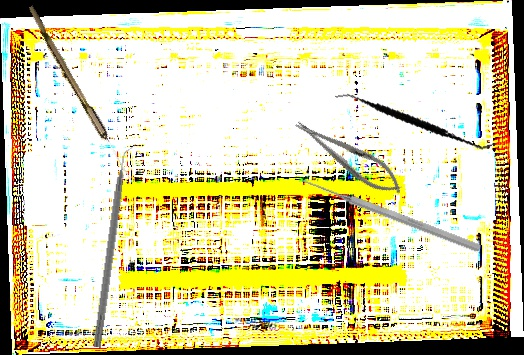Chopper: (92, 141, 141, 350)
Needle Holder: (289, 110, 409, 203)
Pusher: (298, 173, 482, 255)
Spatula Surgical: (334, 62, 496, 178)
Surgical Spoon: (23, 5, 138, 185)
